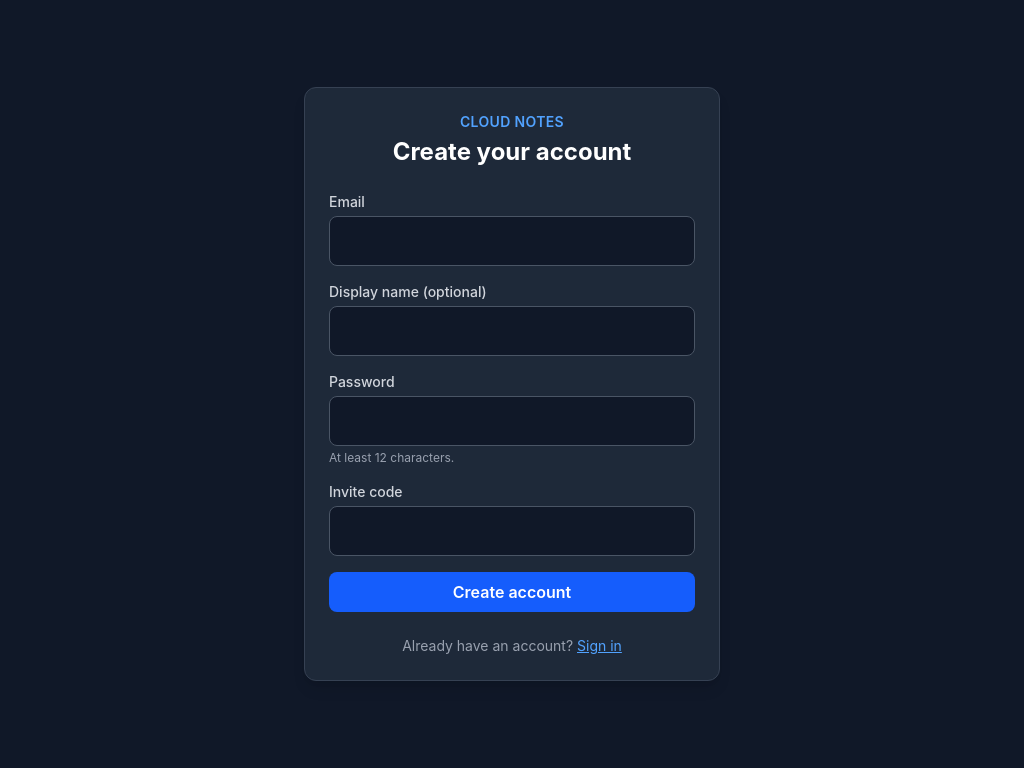
Test: RegisterPage › requires an invite code in invite mode and sends it
Type "ann@example.com" into the field labelled "Email" at (512, 241), box [329,216,695,266]
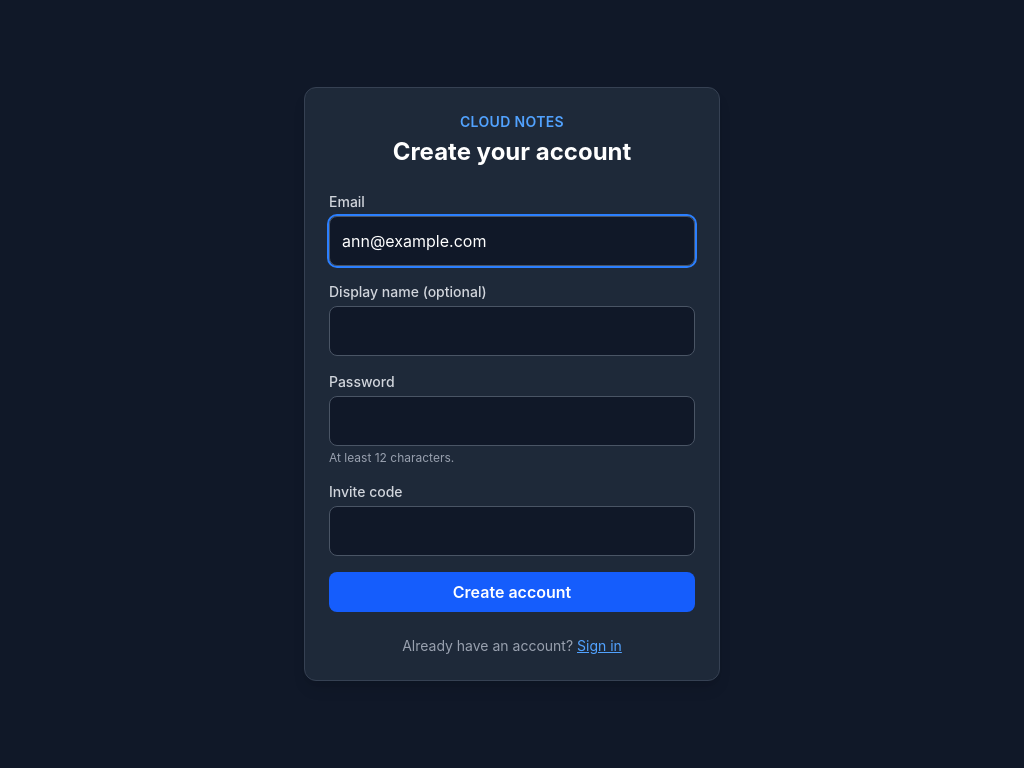
Type "a-long-enough-password" into the password field labelled "Password" at (512, 421), box [329,396,695,446]
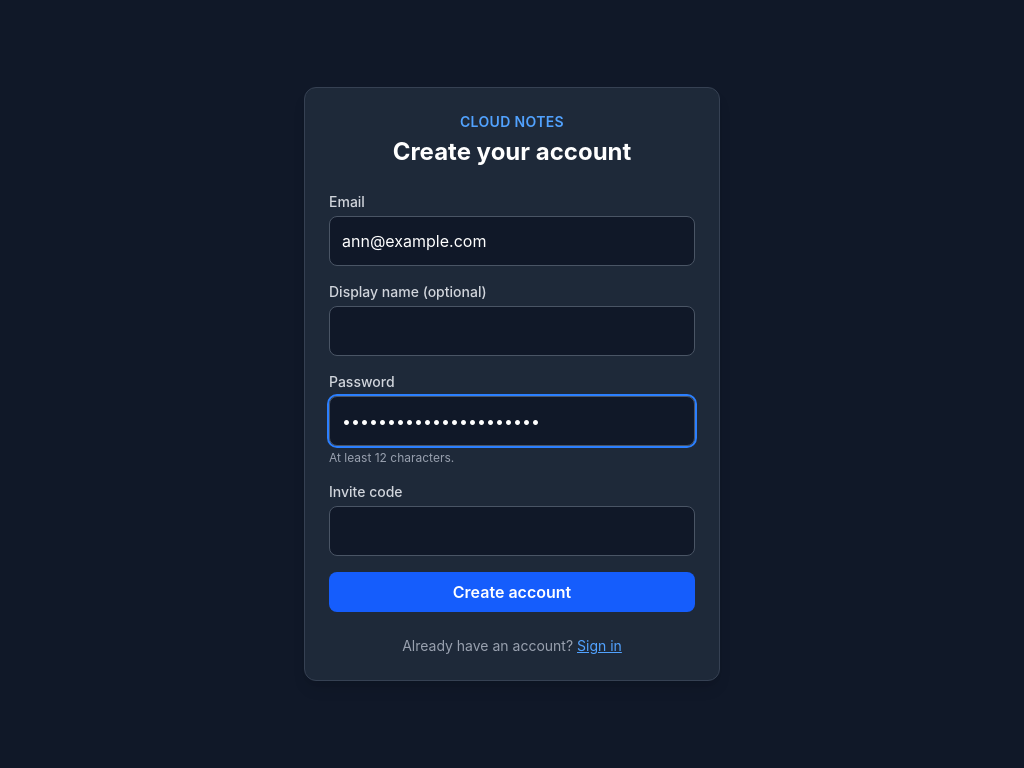
Click the button "Create account" at (512, 592), box [329,572,695,612]
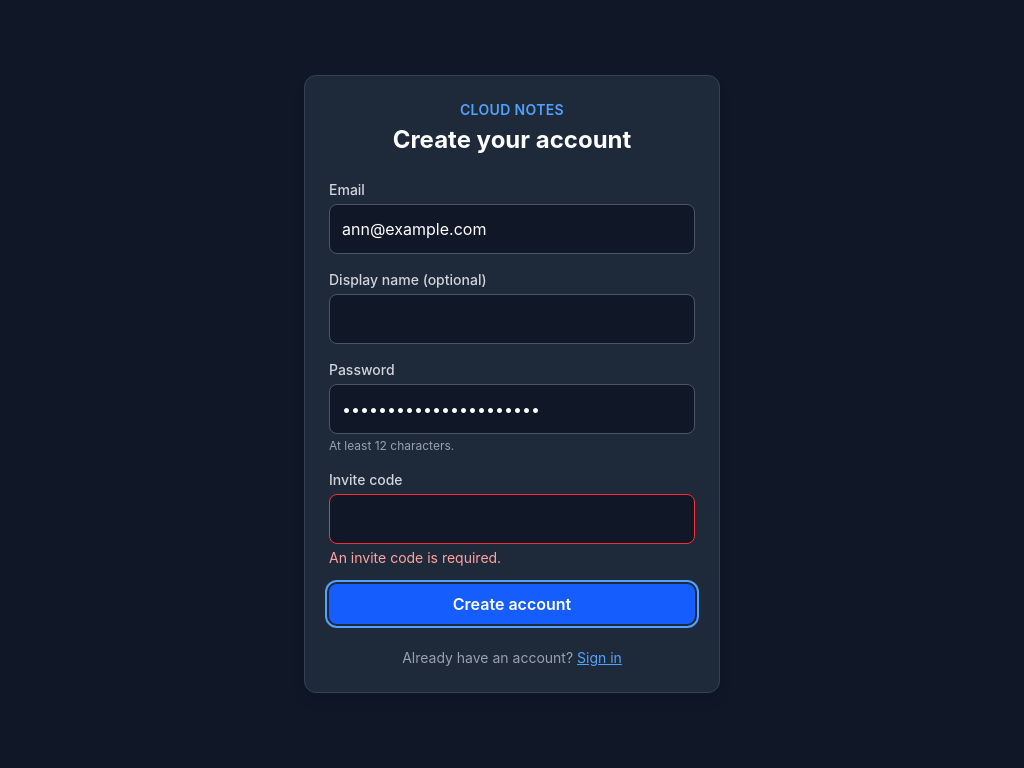
Check: the text "An invite code is required." is shown, box [329,549,501,566]
Type "let-me-in-please-123" into the field labelled "Invite code" at (512, 519), box [329,494,695,544]
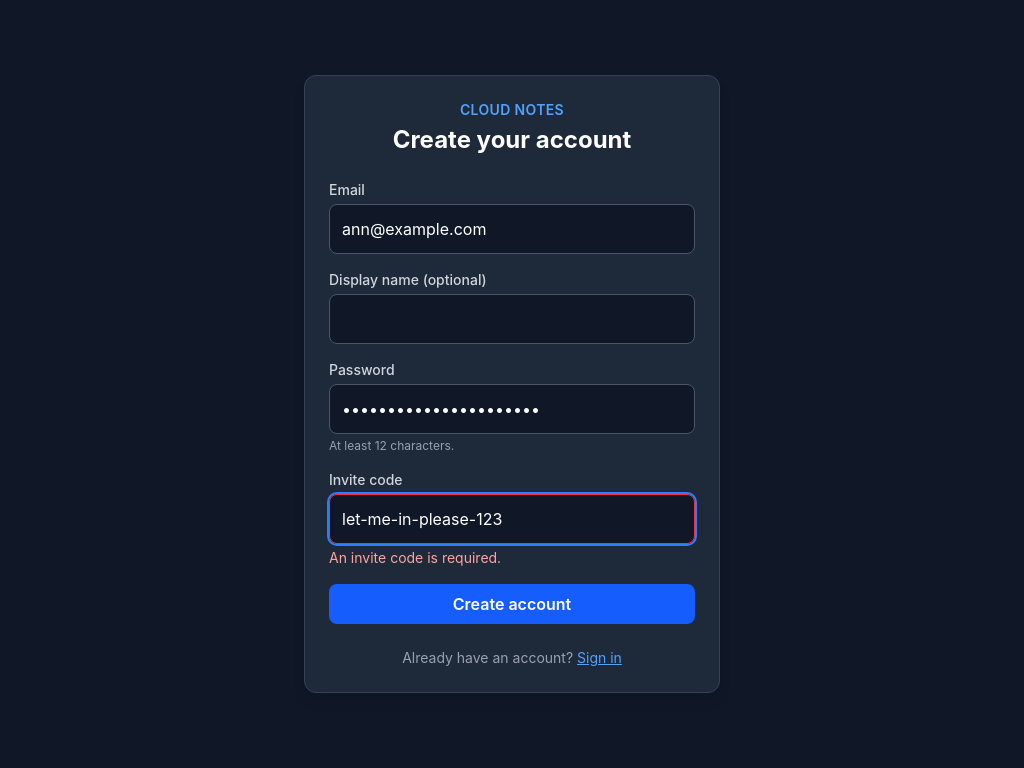
Click the button "Create account" at (512, 604), box [329,584,695,624]
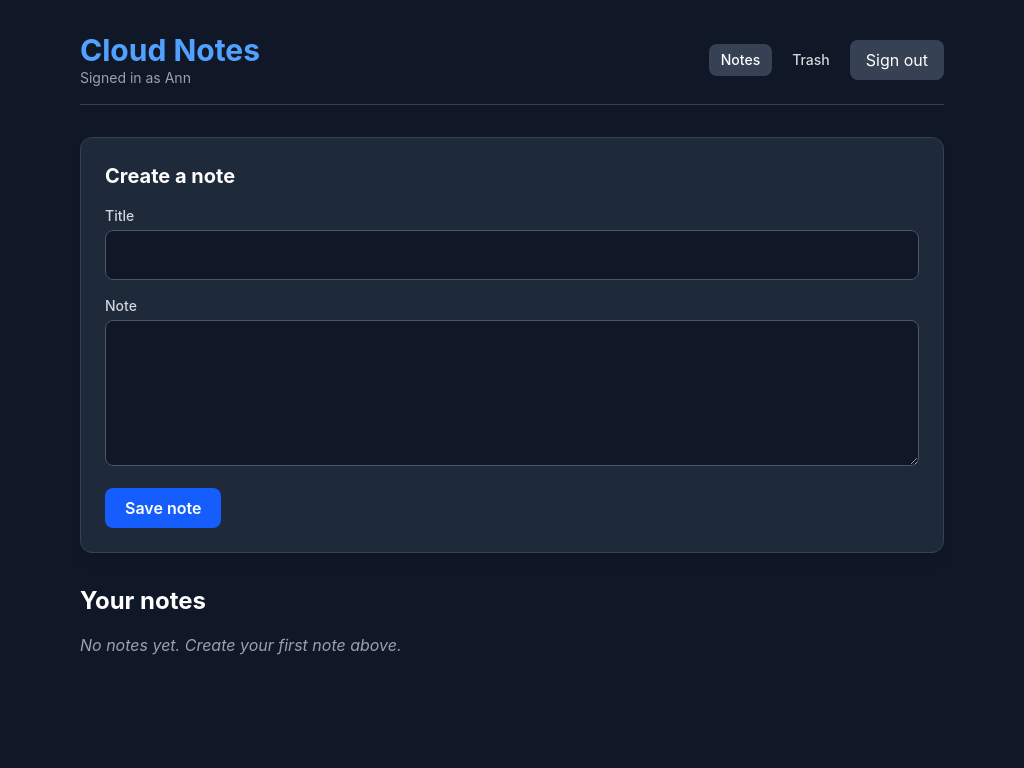
Check: the text "Signed in as Ann" is shown, box [80,69,191,86]
